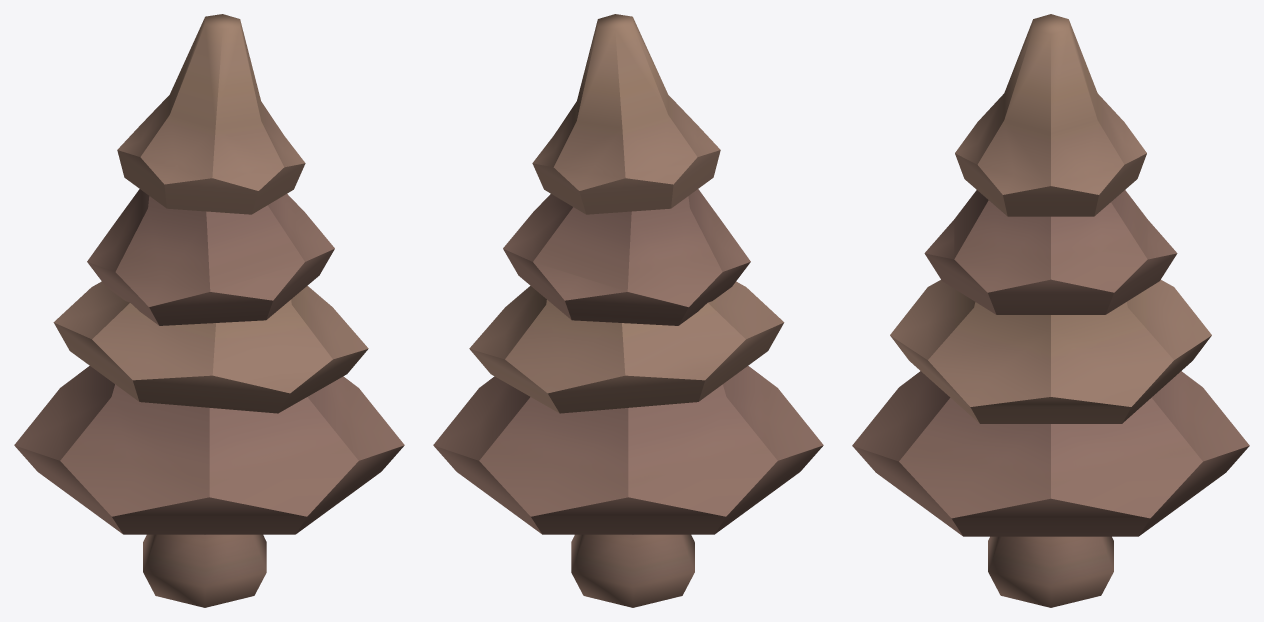
File: pine-fall-crooked.glb
3 renders of one model, left to right at view 1: azimuth 30°, elevation 25°; view 2: azimuth 150°, elevation 25°; view 3: azimuth 270°, elevation 25°, orthographic.
Parts seen in each view (by area): view 1: pine-fall-crooked; view 2: pine-fall-crooked; view 3: pine-fall-crooked.
Boxes of the visible parts, left/top/right/bottom form: pine-fall-crooked: left=14, top=14, right=404, bottom=607; pine-fall-crooked: left=433, top=14, right=823, bottom=607; pine-fall-crooked: left=852, top=14, right=1249, bottom=607.
Size of the model in its own units: 3.53 by 6.32 by 4.
1 material, 1 textured.
